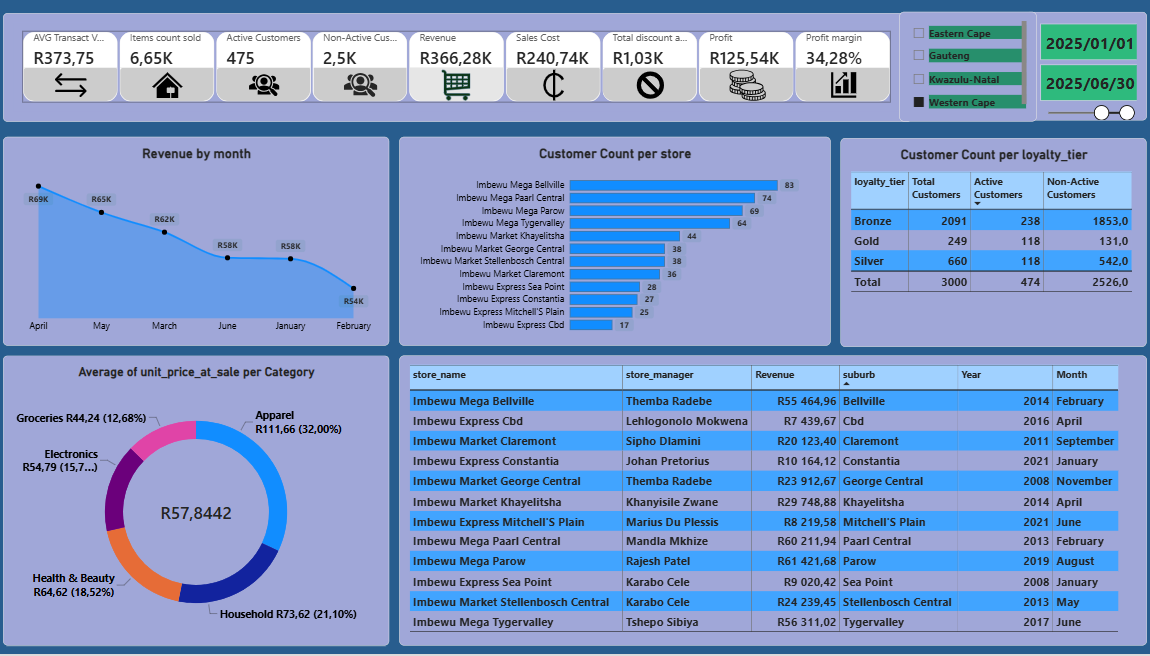

This screenshot's page, from the dashboard's own definition file:
{"tool":"powerbi","page":{"name":"Page 1","canvas":[1920,1080],"ordinal":0},"visuals":[{"type":"cardVisual","fields":{"Data":["_Measures.AVG Transaction Value","_Measures.Items count sold","_Measures.Customer Count","_Measures.Non-Active Customers","_Measures.Revenue","_Measures.Sales Cost","_Measures.Total discount applied","_Measures.Profit","_Measures.Profit margin"]},"box":[15.9,25,1496.4,179.1],"z":0},{"type":"slicer","fields":{"Values":["transactions.transaction_date Hierarchy.transaction_date"]},"box":[1700.2,22.6,199.7,179.1],"z":1},{"type":"donutChart","title":"Average of unit_price_at_sale per Category","fields":{"Category":["products.category"],"Y":["Avg(products.unit_price)"]},"box":[16.5,588.7,636,477.5],"z":2},{"type":"slicer","fields":{"Values":["stores.province"]},"box":[1492.3,22.6,226.4,181.1],"z":3},{"type":"tableEx","fields":{"Values":["stores.store_name","stores.store_manager","_Measures.Revenue","stores.suburb","stores.opened_date.Variation.Date Hierarchy.Year","stores.opened_date.Variation.Date Hierarchy.Month"]},"box":[669,588.7,1230.9,477.5],"z":4},{"type":"areaChart","title":"Revenue by month","fields":{"Category":["transactions.Month Name"],"Y":["_Measures.Revenue"]},"box":[16.5,228.5,636,343.7],"z":5},{"type":"barChart","title":"Customer Count per store","fields":{"Category":["stores.store_name"],"Y":["_Measures.Customer Count"]},"box":[669,228.5,710.1,343.7],"z":6},{"type":"tableEx","title":"Customer Count per loyalty_tier","fields":{"Values":["customers.loyalty_tier","_Measures.Total Customers","_Measures.Active Customer Count","_Measures.Non-Active Customers"]},"box":[1395.5,230.5,504.3,343.7],"z":7}]}

Visuals, with their boxes in screenshot pixels (x1, y1, x2, y2), scaled from the page's 1920x1080 canvas onto the 1150x656 screenshot:
cardVisual - _Measures.AVG Transaction Value x _Measures.Items count sold: (x1=10, y1=15, x2=906, y2=124)
slicer - transactions.transaction_date Hierarchy.transaction_date: (x1=1018, y1=14, x2=1138, y2=123)
"Average of unit_price_at_sale per Category" donutChart: (x1=10, y1=358, x2=391, y2=648)
slicer - stores.province: (x1=894, y1=14, x2=1029, y2=124)
tableEx - stores.store_name x stores.store_manager: (x1=401, y1=358, x2=1138, y2=648)
"Revenue by month" areaChart: (x1=10, y1=139, x2=391, y2=348)
"Customer Count per store" barChart: (x1=401, y1=139, x2=826, y2=348)
"Customer Count per loyalty_tier" tableEx: (x1=836, y1=140, x2=1138, y2=349)
